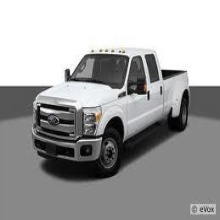no damage: (30, 47, 189, 177)
